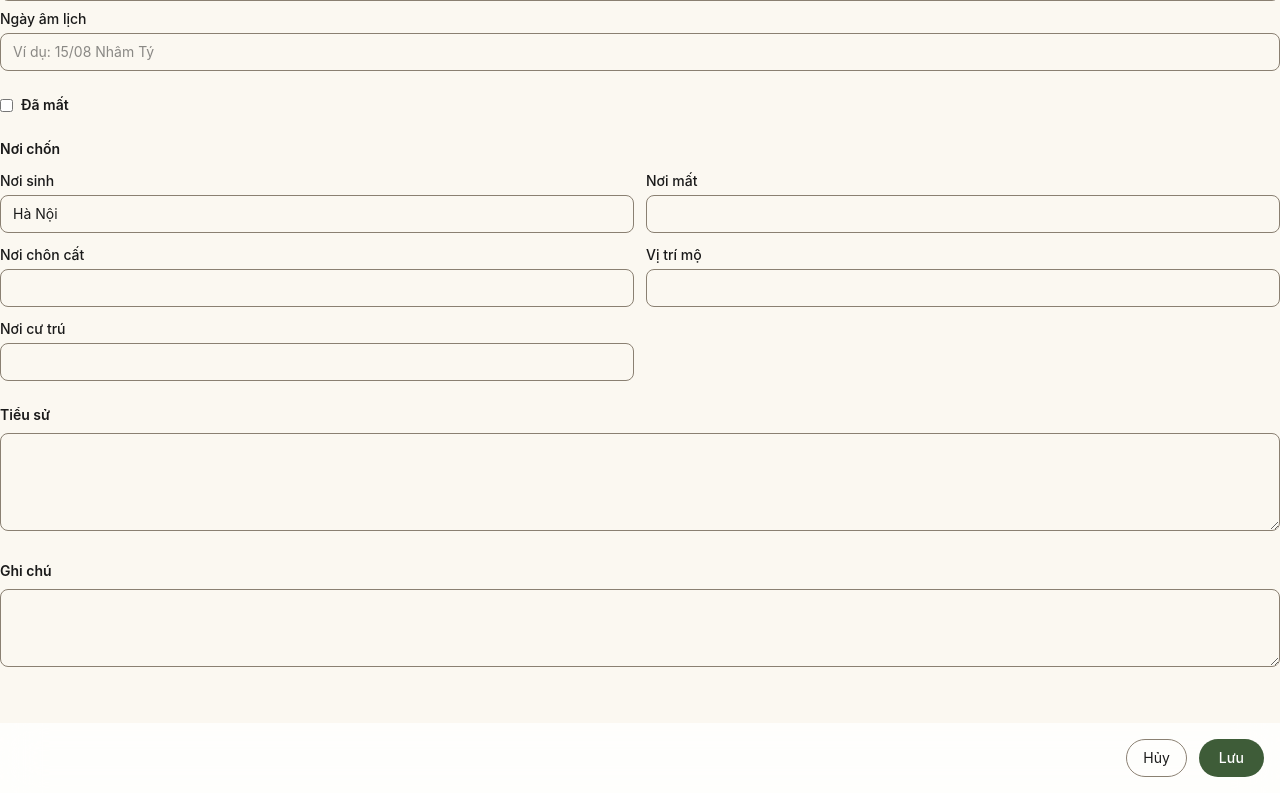
PersonForm — edit, a plain successful save › surfaces meta.warning as part of the confirmation text (spec §7.7a)
(page scrolled)
Type "x" into the text box labelled "Ghi chú" at x=640, y=628, box x1=0 y1=589 x2=1279 y2=667
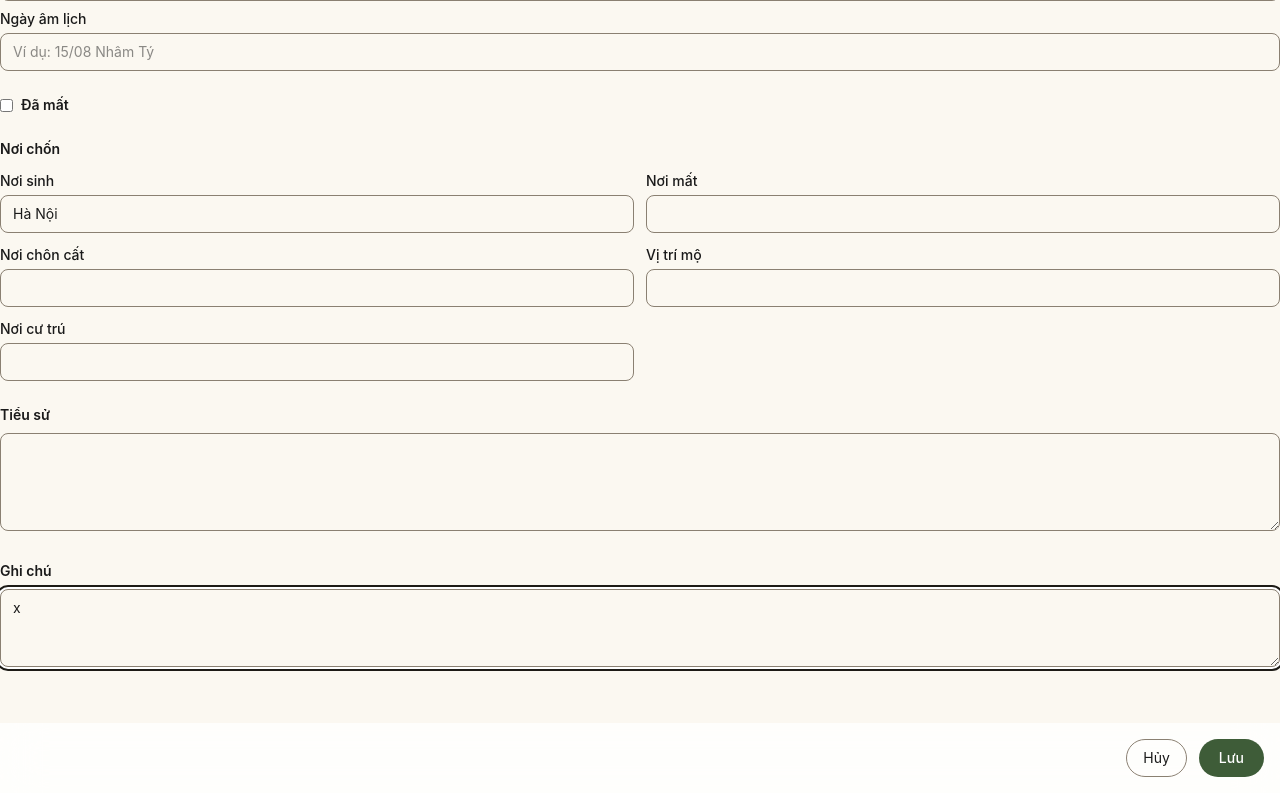
Click the button "Lưu" at x=1231, y=758, box x1=1199 y1=739 x2=1264 y2=777
(page scrolled)
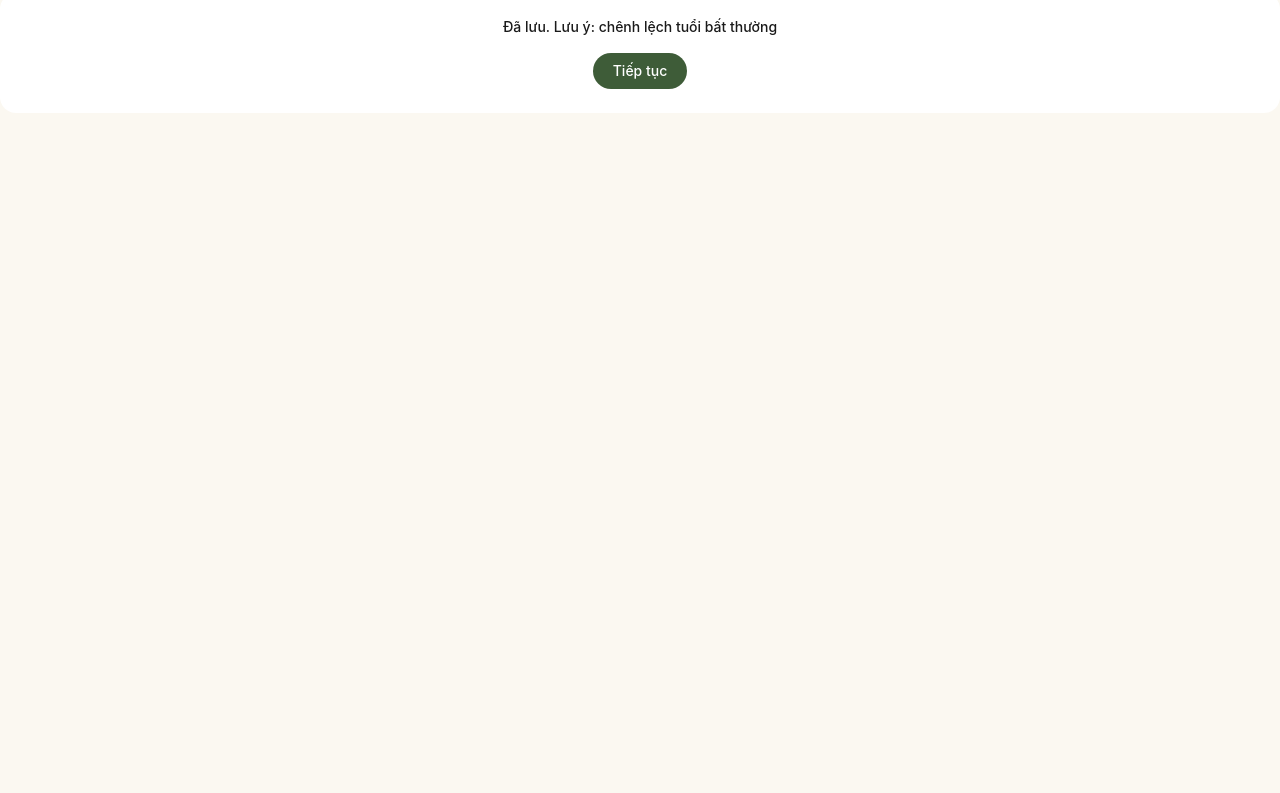
Expected: the text "Đã lưu. Lưu ý: chênh lệch tuổi bất thường" is shown, x1=503 y1=18 x2=777 y2=35
